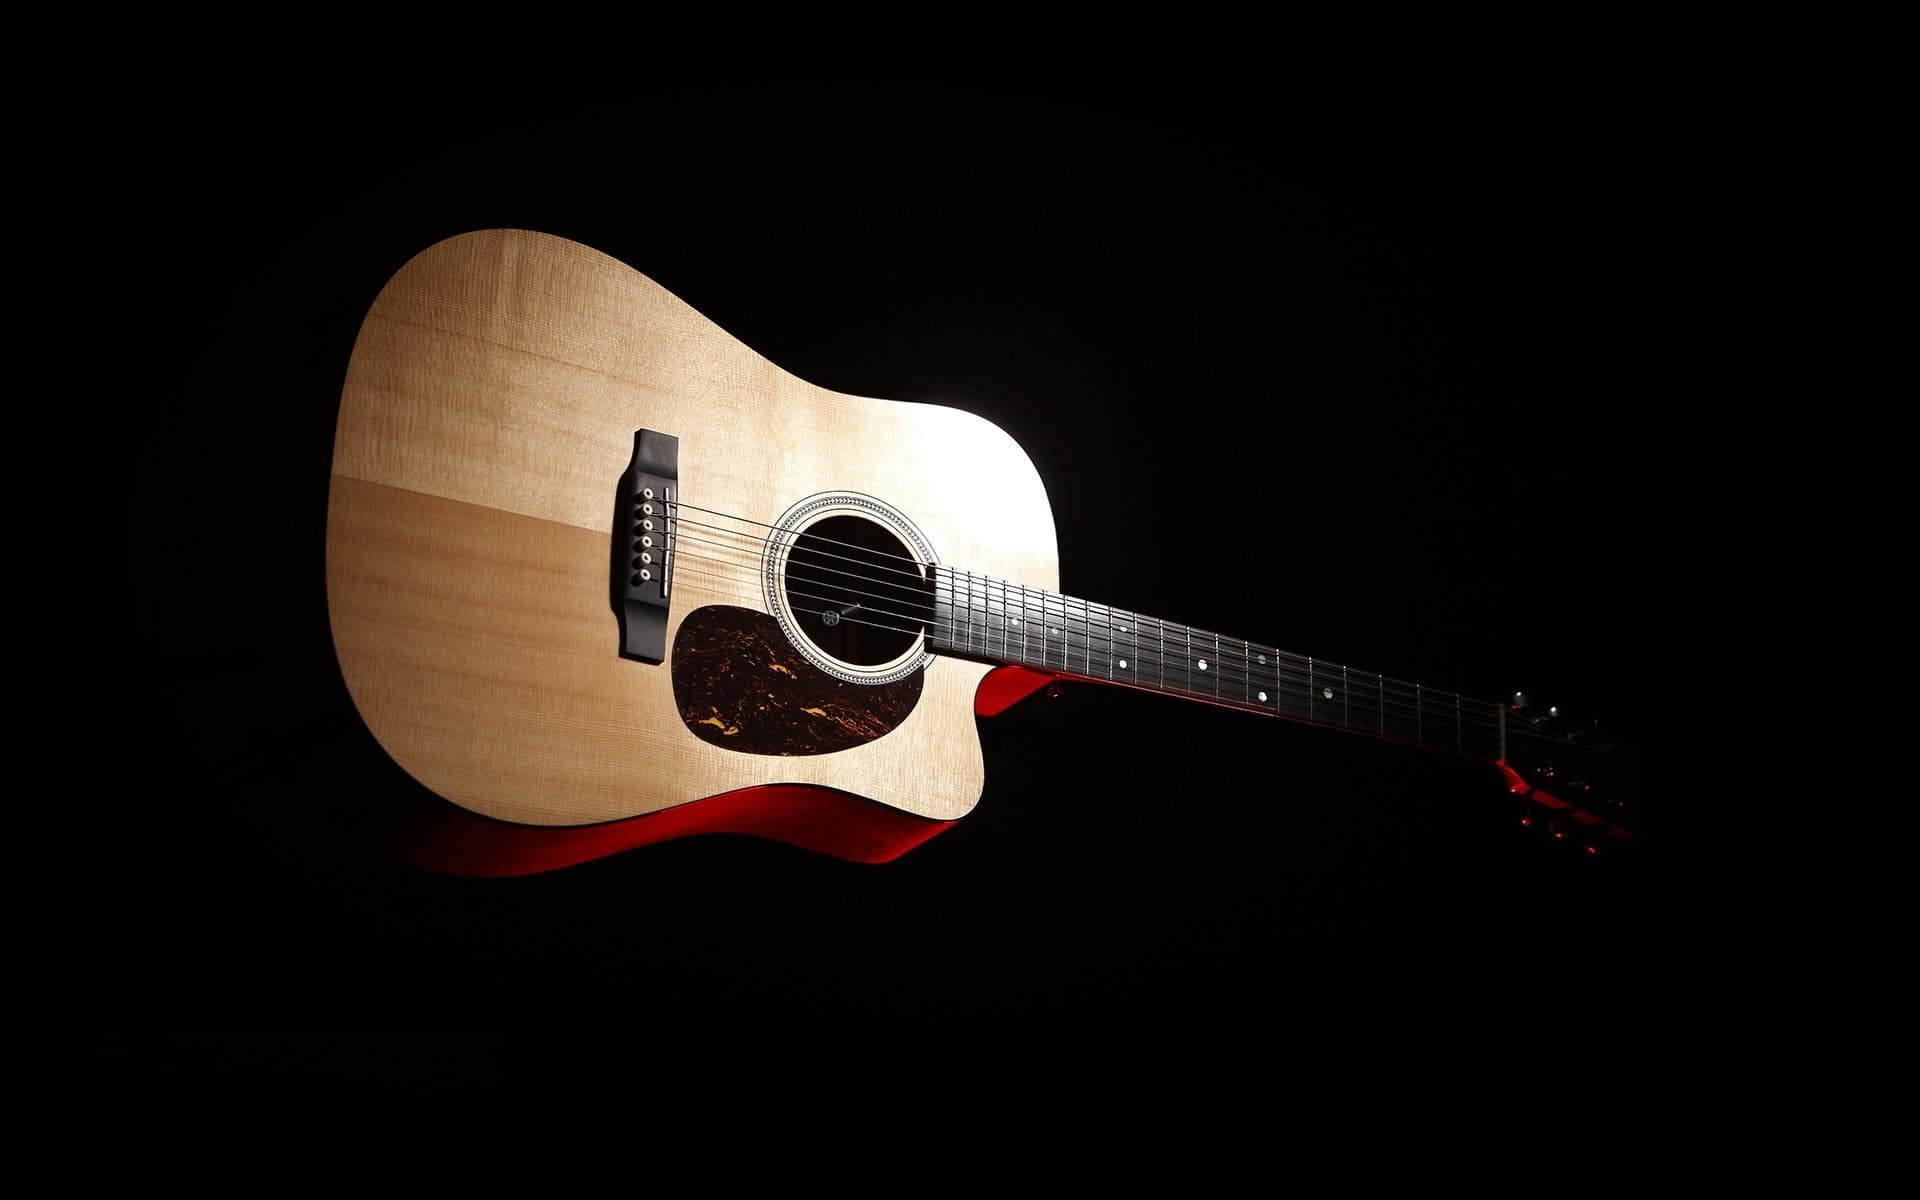guitar: (322, 232, 1679, 892)
